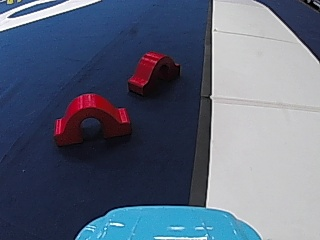bridge: (46, 89, 134, 145), (126, 48, 180, 98)
